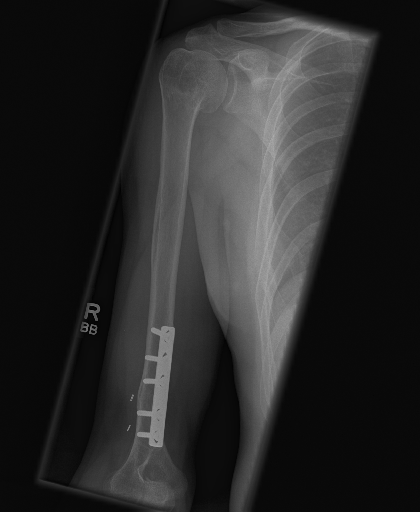implant: (131, 322, 178, 448)
